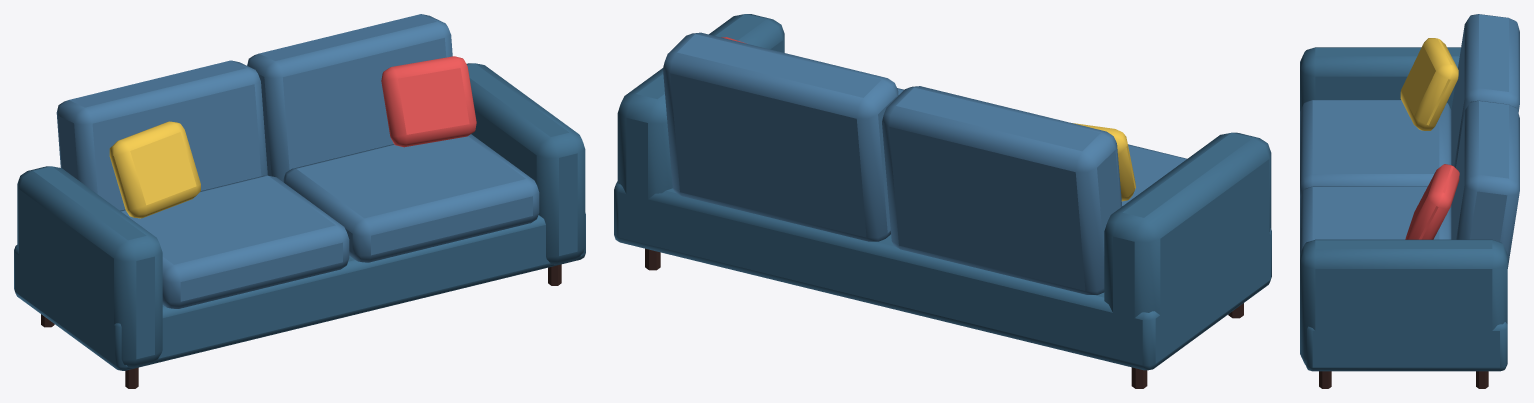
The model's file is sofa.glb.
3 renders of one model, left to right at view 1: azimuth 30°, elevation 25°; view 2: azimuth 150°, elevation 25°; view 3: azimuth 270°, elevation 25°, orthographic. The views are drawn at different scales.
Visible parts, largest first — view 1: sofa; view 2: sofa; view 3: sofa.
Boxes of the visible parts, x1,y1,x2,y2 form: sofa: (14, 14, 585, 388); sofa: (614, 14, 1271, 388); sofa: (1300, 14, 1519, 388).
Bounding box in the file's own units: 2 × 0.8544 × 0.8686.
